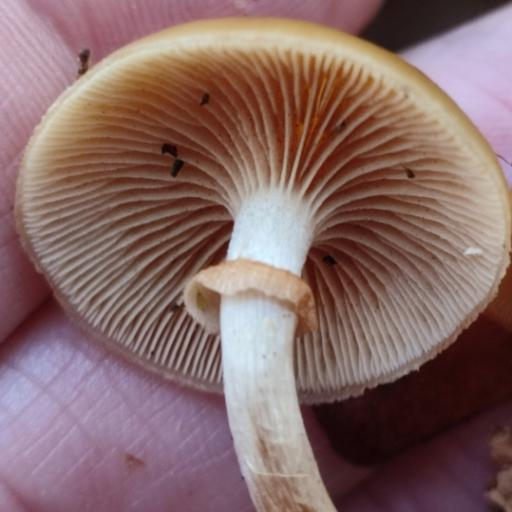mushroom: (18, 12, 512, 455)
